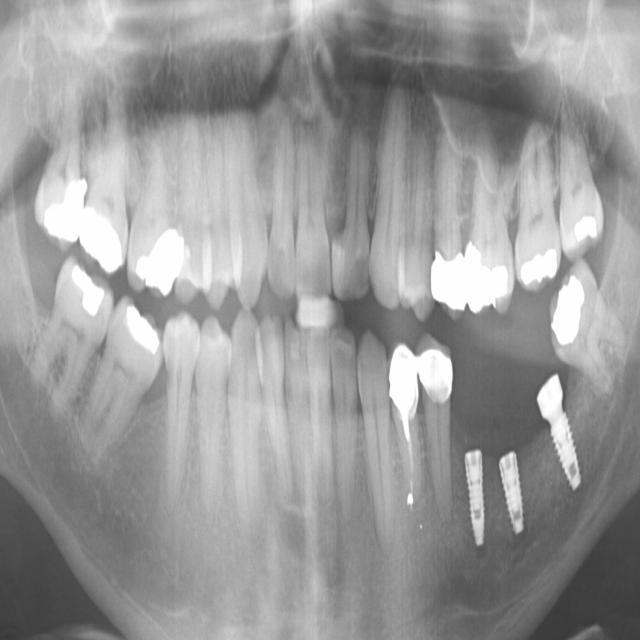infected-teeth: (389, 338, 427, 531)
